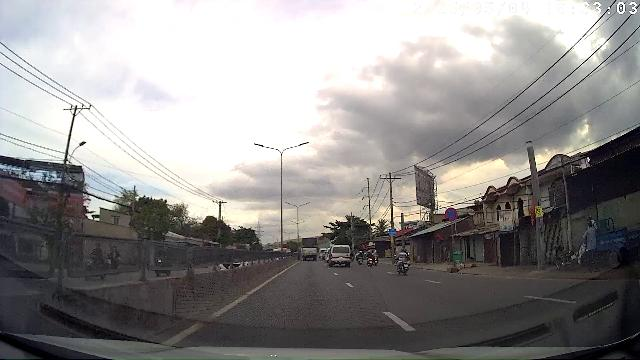130-cam-dung-va-do-xe: (446, 207, 458, 221)
